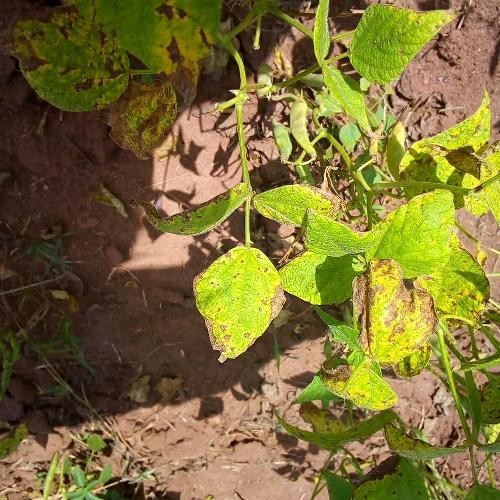hawar: (342, 246, 440, 366), (183, 252, 287, 358), (441, 265, 488, 328), (312, 360, 380, 400)
